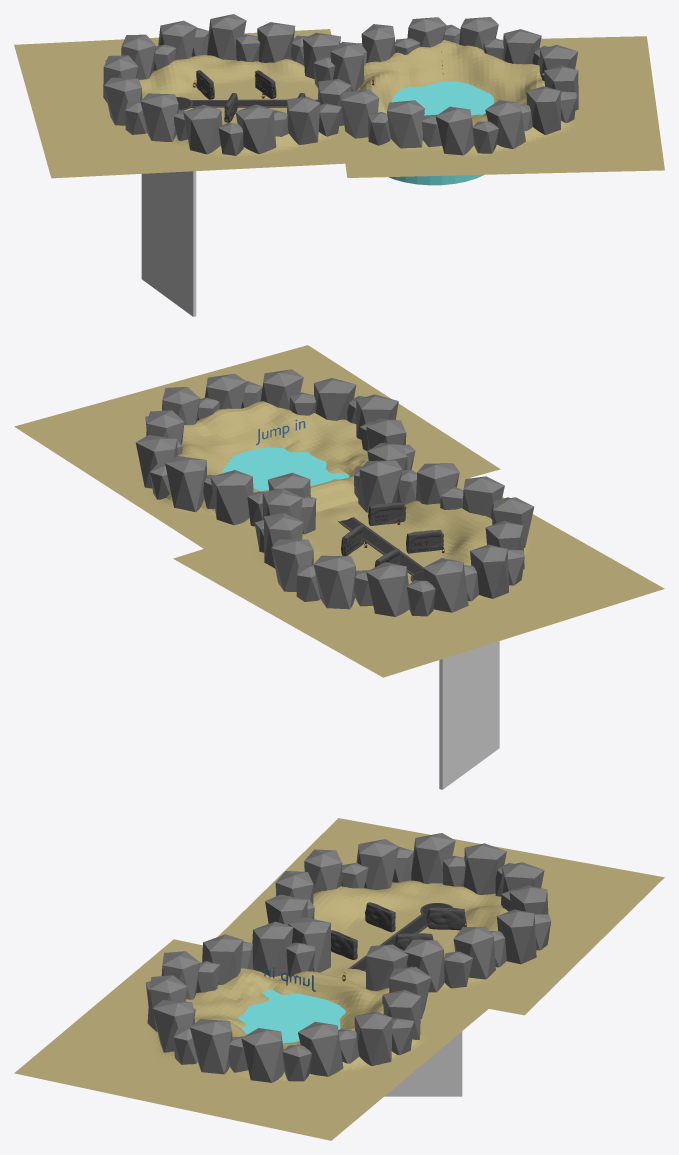
The model's file is TheWalkThrough.glb.
3 views of the same model, one above another, from view 1: azimuth 30°, elevation 25°; view 2: azimuth 150°, elevation 25°; view 3: azimuth 270°, elevation 25° (orthographic). The views are drawn at different scales.
Parts seen in each view (by area): view 1: Plane.001, Plane, Icosphere.012, Icosphere.001, Cube.006, Cylinder.002, Icosphere.003; view 2: Plane, Plane.001, Icosphere.012, Icosphere.001, Cube.006, Cylinder.002, Cube.003, Cube.005, Cube.002; view 3: Plane.001, Plane, Icosphere.001, Icosphere.012, Cylinder.002, Cube.006, Icosphere.002, Cube.001, Cube.003, Cube.005.
Part boxes in pixels (x1,y1,x2,y2): Plane.001: (341,36,664,177); Plane: (14,29,365,178); Icosphere.012: (103,14,351,155); Icosphere.001: (330,17,578,155); Cube.006: (141,171,196,316); Cylinder.002: (388,81,494,185); Icosphere.003: (368,112,390,145); Plane: (173,476,664,677); Plane.001: (14,345,500,550); Icosphere.012: (262,460,534,616); Icosphere.001: (135,369,407,526); Cube.006: (439,641,499,789); Cylinder.002: (222,447,349,491); Cube.003: (406,530,443,553); Cube.005: (368,502,406,525); Cube.002: (341,517,423,573); Plane.001: (14,939,490,1140); Plane: (218,818,664,1015); Icosphere.001: (145,921,431,1082); Icosphere.012: (265,833,550,992); Cylinder.002: (238,990,345,1043); Cube.006: (384,1031,462,1096); Icosphere.002: (444,951,472,988); Cube.001: (426,907,465,930); Cube.003: (365,902,395,932); Cube.005: (331,930,357,959).
Bounding box in the file's own units: 77.24 × 27.52 × 65.82.
